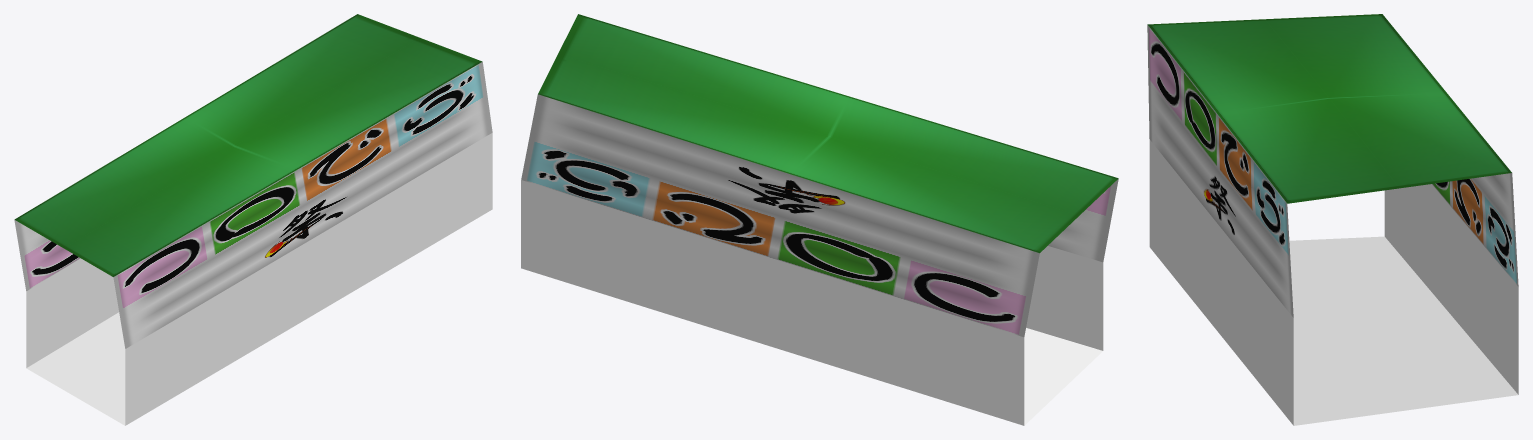
The model's file is CourseWinter_Wall_L_17_7.fbx.
The picture shows the model from 3 angles, left to right: view 1: azimuth 30°, elevation 25°; view 2: azimuth 150°, elevation 25°; view 3: azimuth 270°, elevation 25°; orthographic projection. The views are drawn at different scales.
Visible parts, largest first — view 1: polySurface610; view 2: polySurface610; view 3: polySurface610.
Boxes of the visible parts, box(x1,y1,x2,y2) form: polySurface610: box(14, 14, 492, 425); polySurface610: box(521, 14, 1118, 425); polySurface610: box(1147, 14, 1518, 425).
Size of the model in its own units: 6.09 by 2.98 by 3.12.
1 material, 1 textured.
